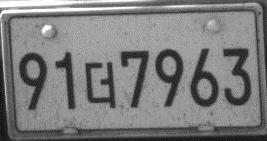1: (50, 49, 82, 111)
3: (220, 46, 252, 105)
6: (189, 47, 220, 107)
7: (120, 47, 150, 110)
9: (154, 48, 185, 109), (18, 51, 48, 111)
더: (84, 60, 118, 109)
